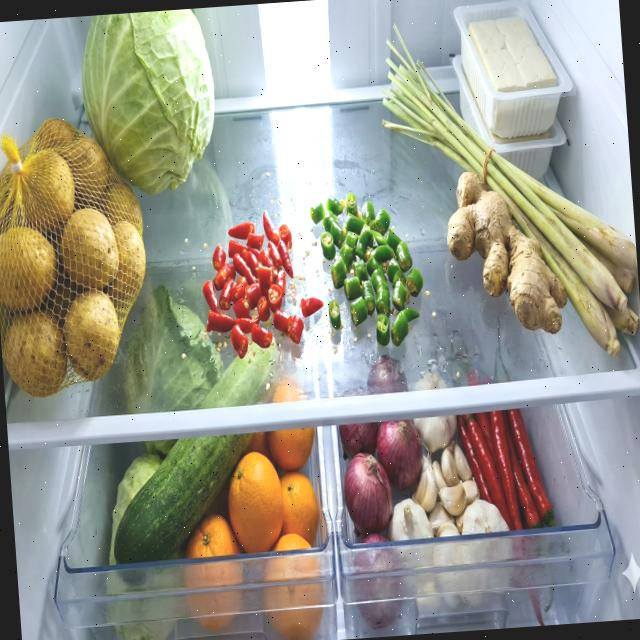cabbage: (77, 7, 222, 200), (115, 278, 226, 414)
chili: (197, 206, 327, 362), (308, 187, 428, 351), (456, 406, 556, 534)
cucumber: (100, 334, 294, 588)
garlic: (380, 411, 510, 541)
ginger: (442, 165, 570, 341)
lemongrass: (374, 6, 640, 374)
onion: (338, 418, 434, 631)
orange: (172, 427, 328, 640)
potato: (0, 111, 153, 399)
tofu: (467, 13, 557, 95)
